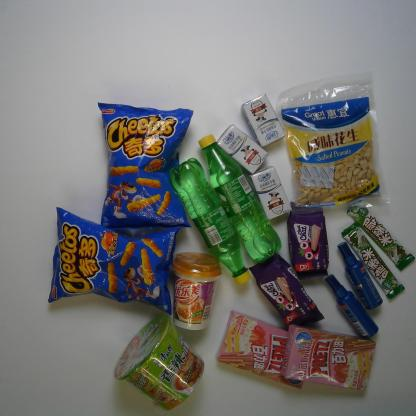Chocolate: (341, 220, 406, 302), (344, 195, 414, 270)
Dessert: (213, 309, 305, 390), (284, 322, 379, 394), (246, 251, 326, 327), (283, 197, 328, 278)
Dried Fruit: (281, 77, 387, 206)
Drink: (168, 156, 252, 286), (198, 130, 280, 263)
Instant Drink: (169, 250, 223, 331)
Instant Noodles: (113, 314, 203, 409)
Milk: (216, 122, 269, 174), (248, 164, 293, 221), (241, 92, 285, 148)
Personal Hygiene: (324, 273, 379, 339), (338, 238, 385, 315)
Puffed Food: (48, 206, 185, 316), (94, 93, 193, 230)
